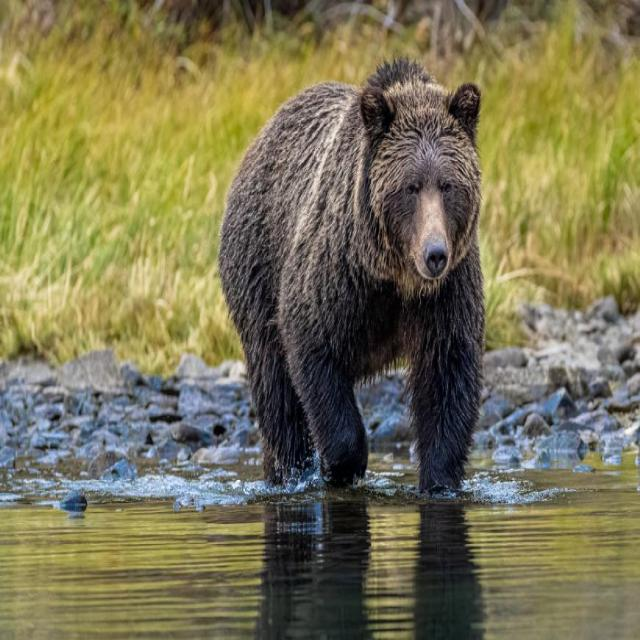Bear: (218, 60, 486, 500)
